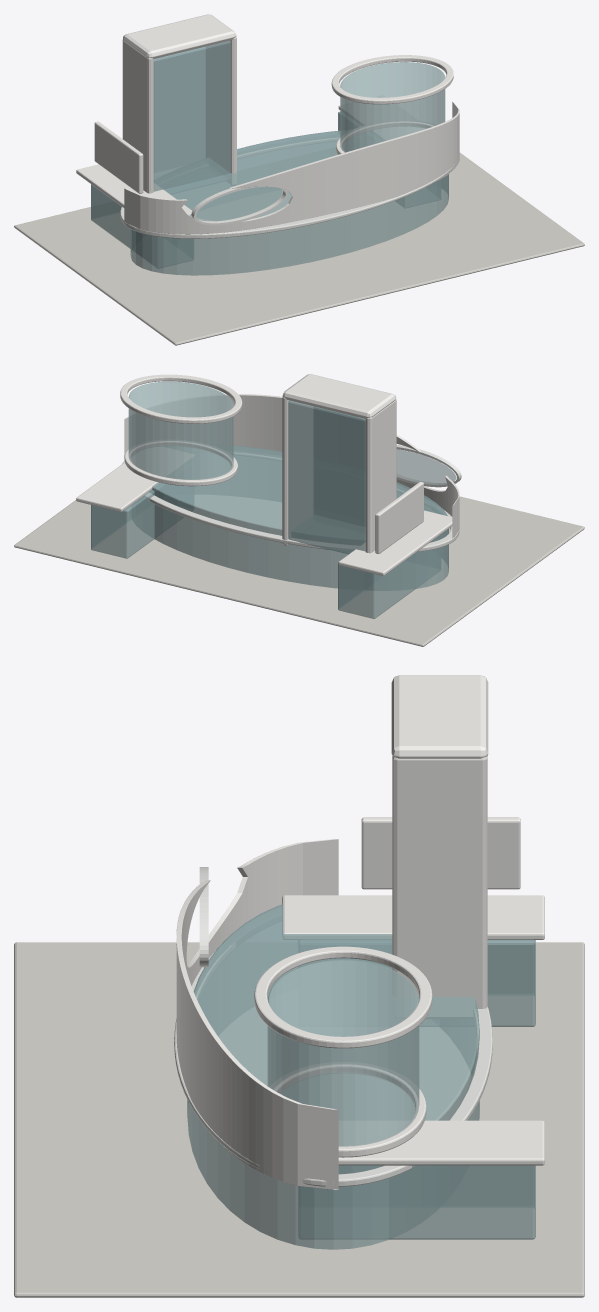
The model's file is shanghai-cinema-massing.glb.
The picture shows the model from 3 angles, top to bottom: view 1: azimuth 30°, elevation 25°; view 2: azimuth 150°, elevation 25°; view 3: azimuth 270°, elevation 25°; orthographic projection. The views are drawn at different scales.
Parts seen in each view (by area): view 1: shanghai-cinema-massing; view 2: shanghai-cinema-massing; view 3: shanghai-cinema-massing.
Part boxes in pixels (x1,y1,x2,y2): shanghai-cinema-massing: (14,14,584,345); shanghai-cinema-massing: (14,374,584,646); shanghai-cinema-massing: (14,675,584,1297).
Bounding box in the file's own units: 38 × 17.23 × 26.
